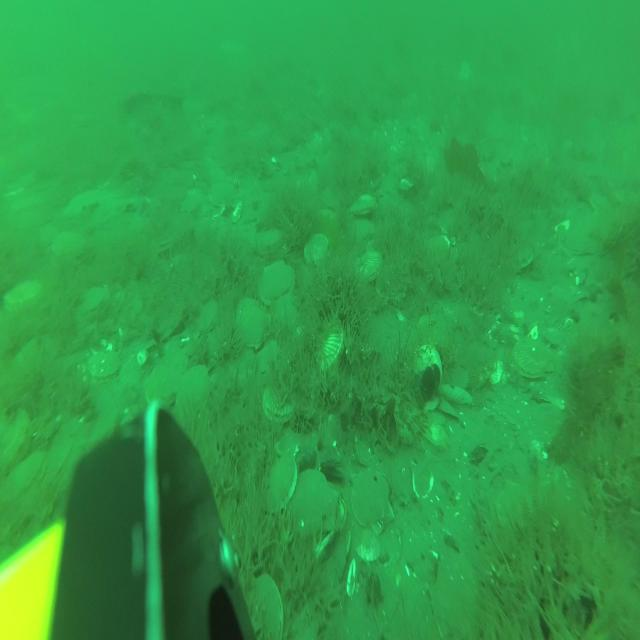scallop: (354, 466, 396, 535), (289, 471, 333, 536), (248, 573, 287, 640), (512, 331, 554, 381), (267, 453, 297, 522), (4, 447, 44, 498), (234, 296, 268, 347), (176, 369, 211, 418), (261, 381, 298, 426), (144, 362, 177, 408), (6, 279, 45, 316), (315, 320, 344, 369), (88, 343, 120, 386), (259, 261, 294, 297), (257, 340, 284, 382), (304, 229, 329, 271), (255, 224, 284, 258), (78, 282, 105, 318), (52, 232, 80, 264), (197, 300, 219, 339), (356, 249, 379, 283), (209, 178, 234, 208), (353, 191, 378, 219)
